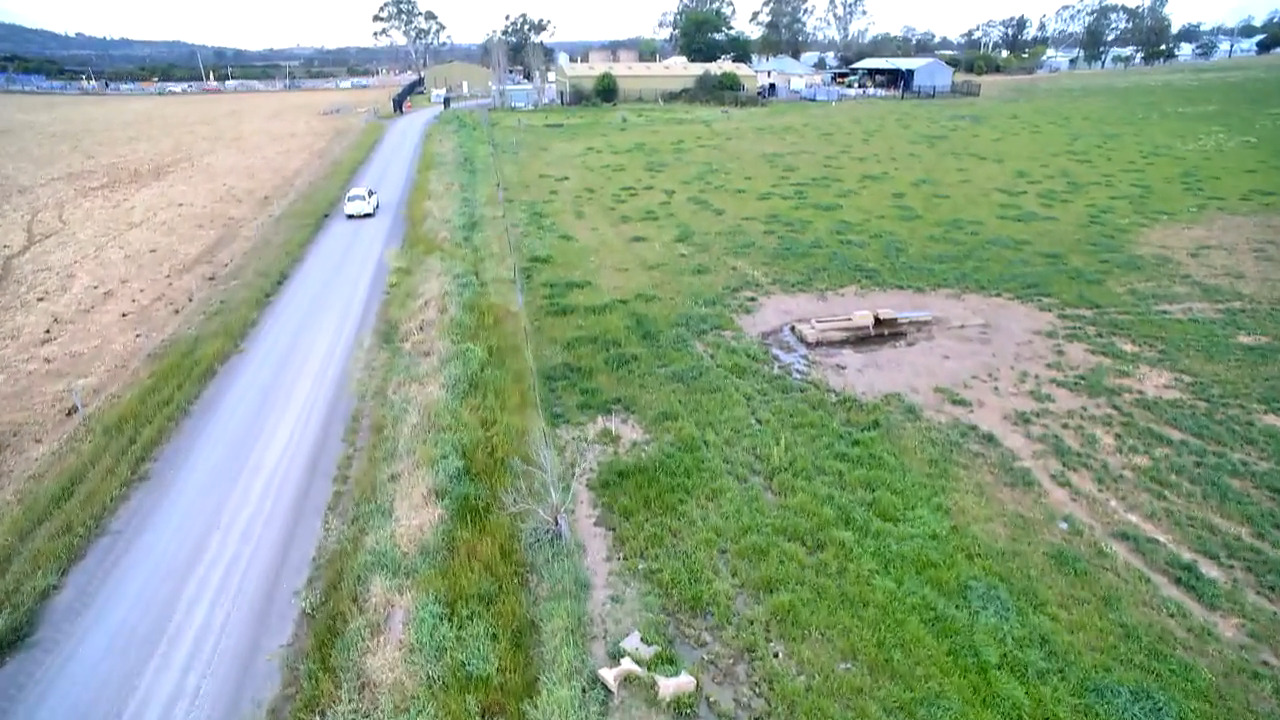Car: (343, 188, 379, 217)
